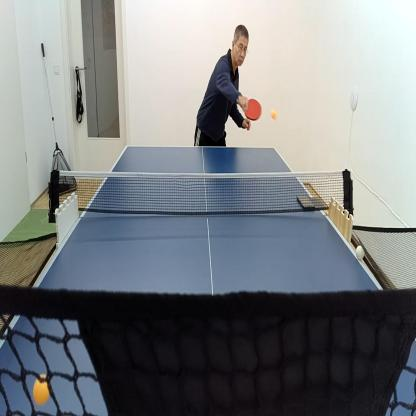Ball: (34, 372, 50, 406), (356, 245, 364, 260), (272, 111, 278, 121)
